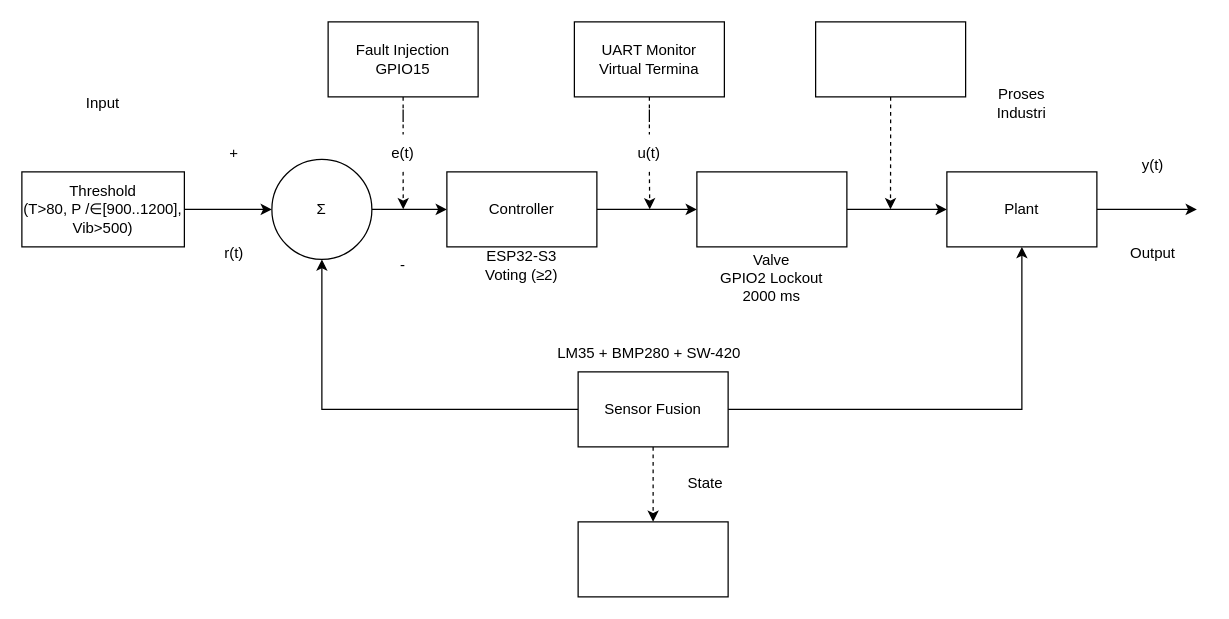
Image size: 1229x619. Some labels were removed from this diagram. Each missing label, with the centre of its shape:
"Aktuator" belongs at point (771, 209).
"Critical Section Mutex⟨RefCell⟩" belongs at point (652, 559).
"TIMG0 Timer (μs latency)" belongs at point (890, 59).
